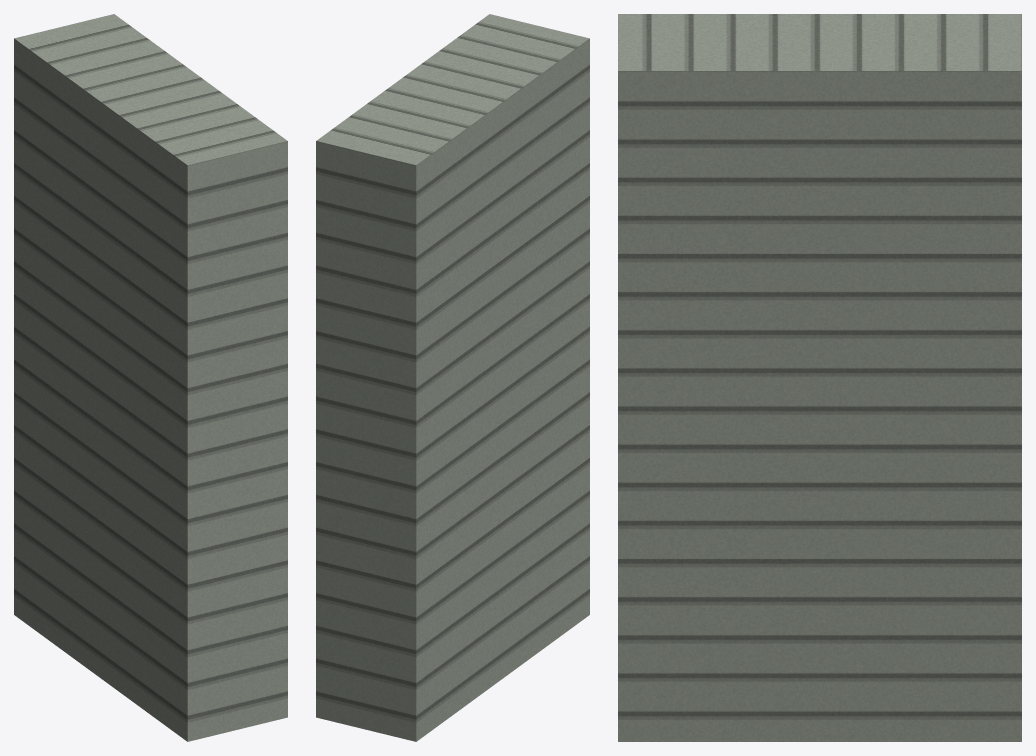
The model's file is rolling_display_ladder.glb.
3 renders of one model, left to right at view 1: azimuth 30°, elevation 25°; view 2: azimuth 150°, elevation 25°; view 3: azimuth 270°, elevation 25°, orthographic. The views are drawn at different scales.
Visible parts, largest first — view 1: rolling_display_ladder-col; view 2: rolling_display_ladder-col; view 3: rolling_display_ladder-col.
Part boxes in pixels (x1,y1,x2,y2): rolling_display_ladder-col: (14, 14, 287, 741); rolling_display_ladder-col: (316, 14, 589, 741); rolling_display_ladder-col: (618, 14, 1021, 741).
Bounding box in the file's own units: 0.4 × 2.2 × 1.2.
1 material, 1 textured.
